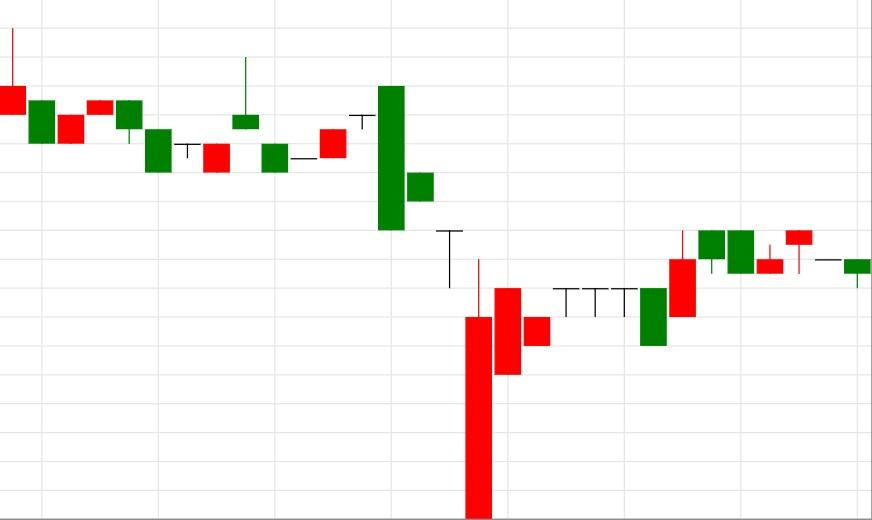bearish_engulfing_fall: (28, 100, 144, 145)
